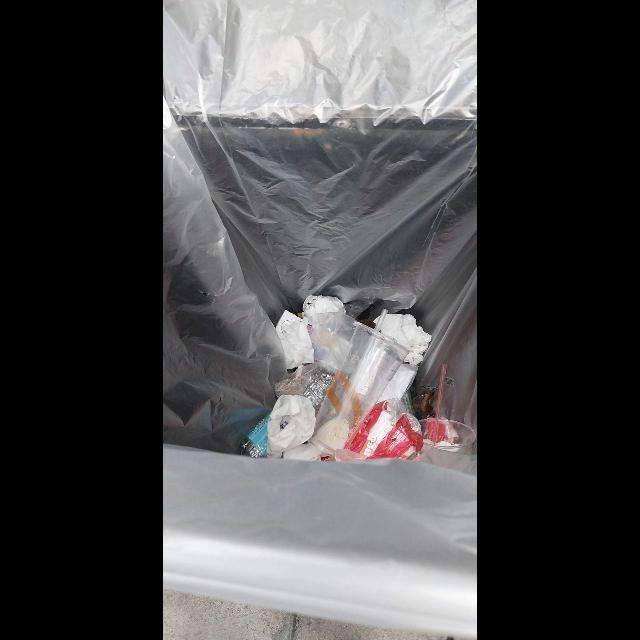paper: (267, 395, 316, 459), (381, 313, 431, 364), (301, 295, 345, 318)
plastic_bag: (325, 397, 424, 461)
plastic_container: (307, 322, 412, 454)
